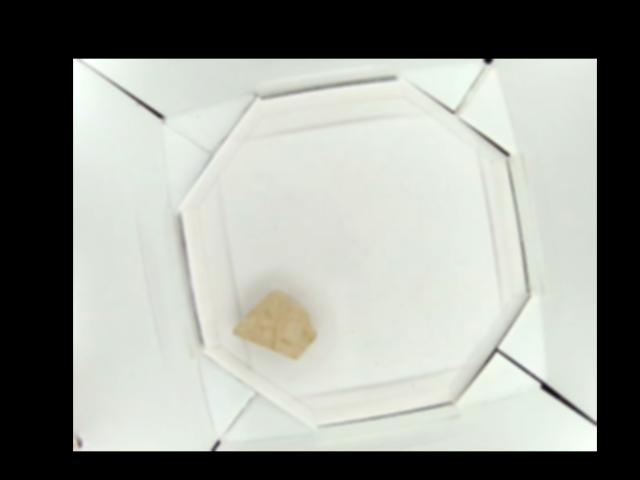China: (231, 291, 316, 358)
